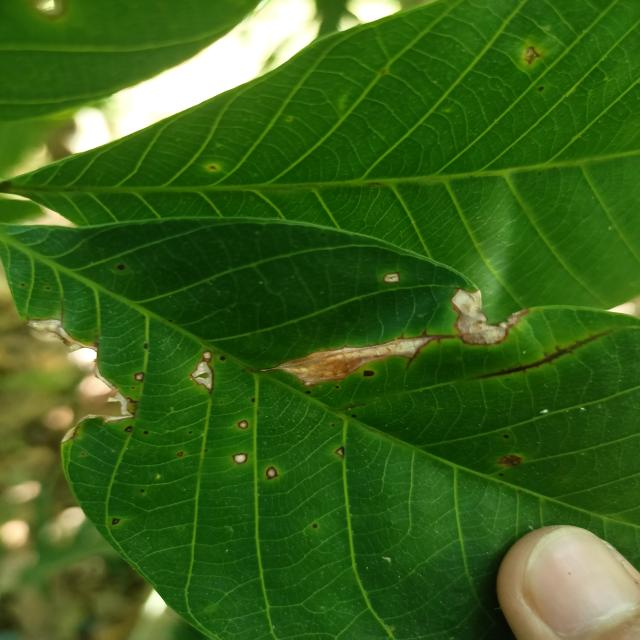Colletotrichum: (237, 420, 249, 429)
Corynespora: (472, 330, 617, 380)
Leaf-Blight: (277, 337, 433, 386), (451, 290, 529, 345), (385, 273, 399, 283)
